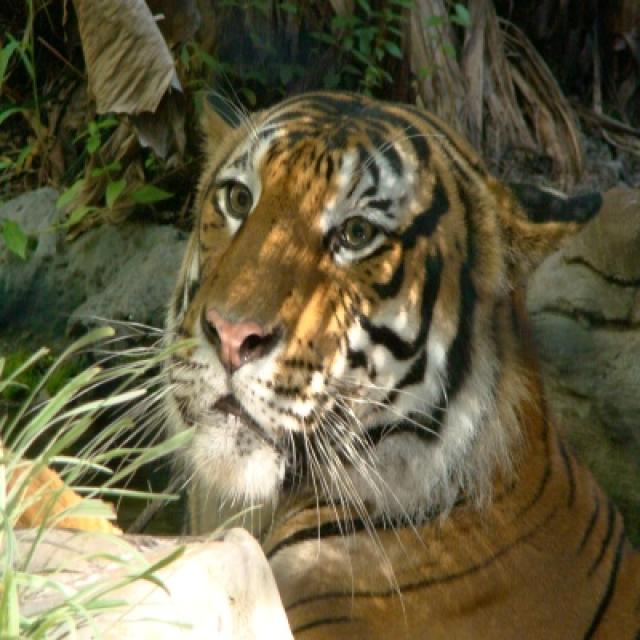Tiger: (171, 92, 638, 638)
